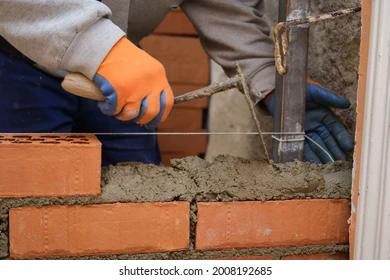brick: (9, 199, 191, 258), (196, 200, 350, 244), (1, 142, 104, 198)
